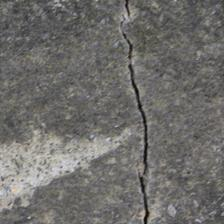Crack: (120, 4, 156, 223)
